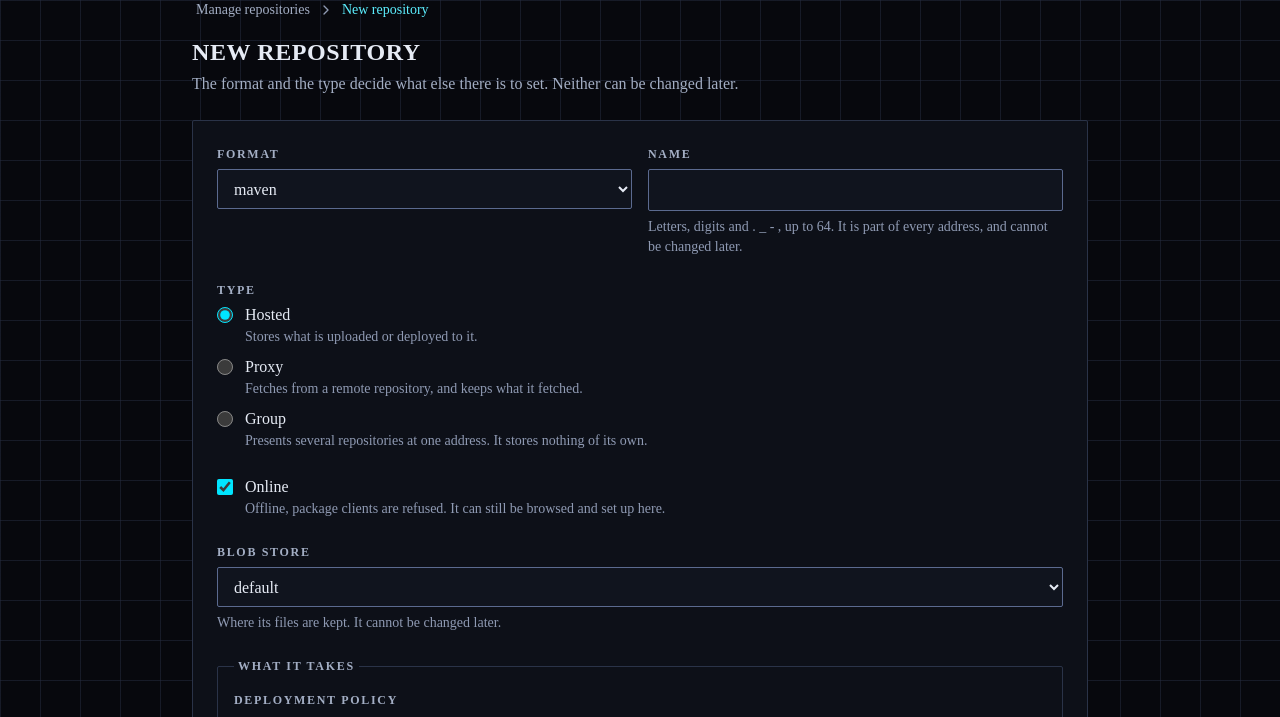
Scenario: a new repository (R2) › a proxy's public remote is the one the server says
Click the radio button labelled "Proxy".
click(225, 367)  # box [217, 359, 233, 375]
(page scrolled)
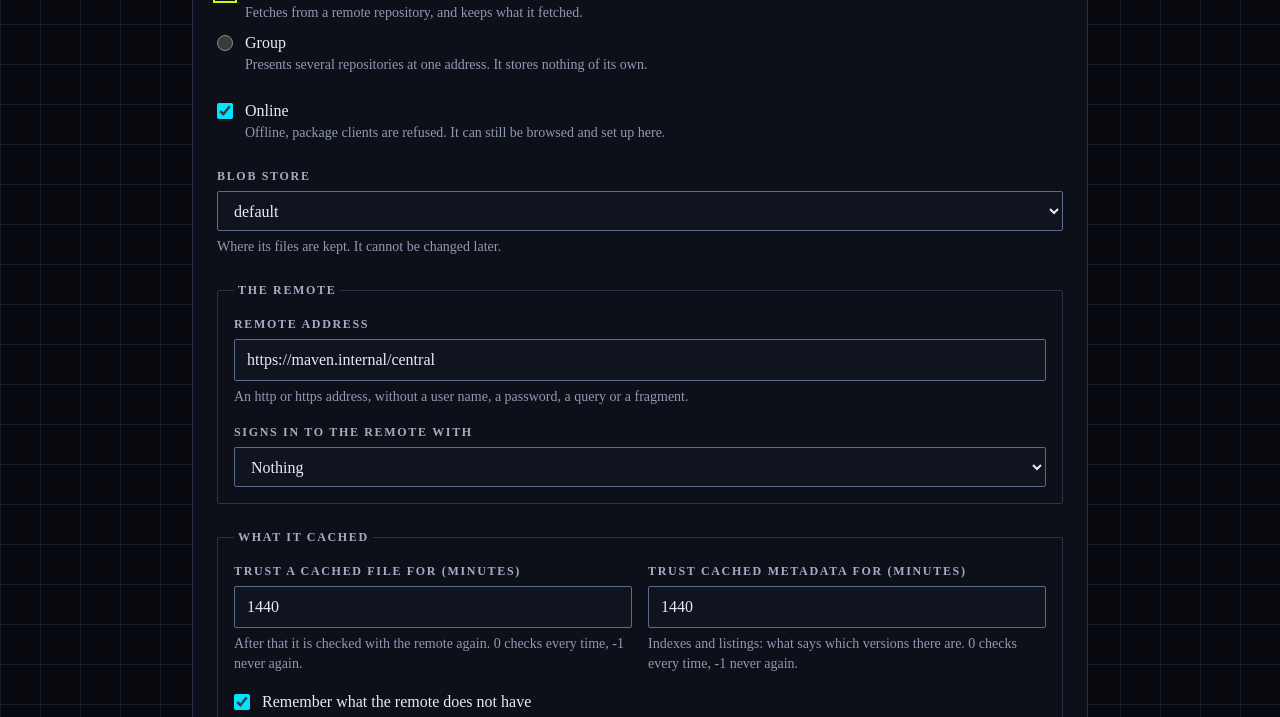
expect the field labelled "Remote address" holds "https://maven.internal/central": met, box [234, 339, 1046, 381]
